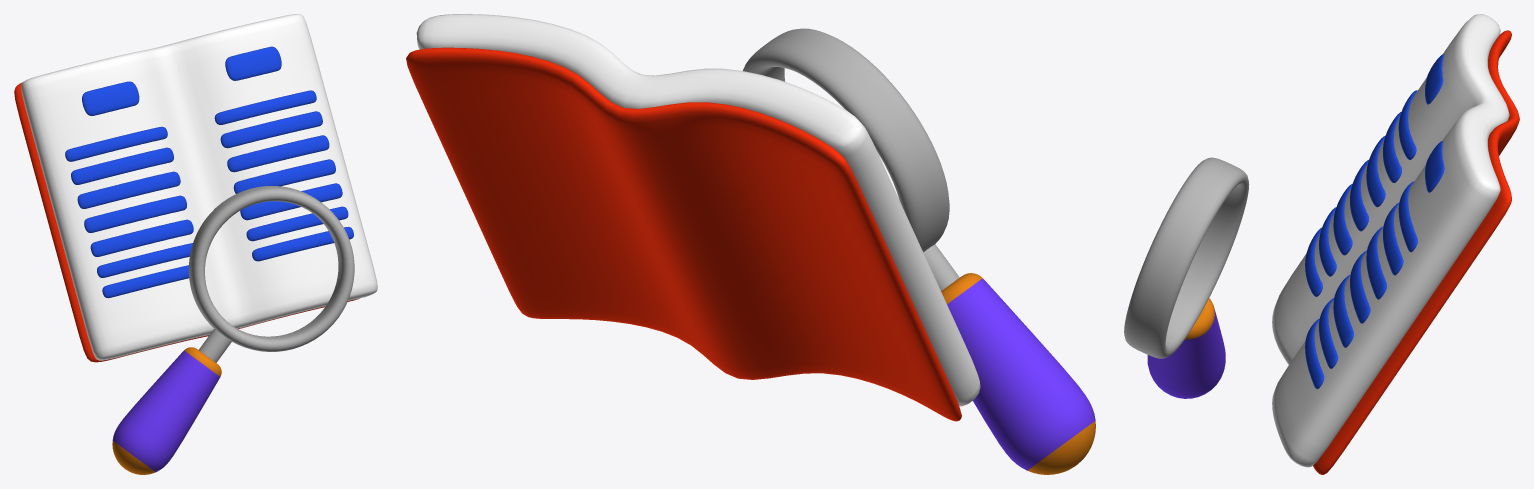
File: Case Study.fbx
3 views of the same model, side by side, from view 1: azimuth 30°, elevation 25°; view 2: azimuth 150°, elevation 25°; view 3: azimuth 270°, elevation 25° (orthographic). The views are drawn at different scales.
Visible parts, largest first — view 1: Plane.001, Plane.010, Circle, Cylinder.001, Plane, Cylinder; view 2: Plane, Plane.001, Cylinder.001, Circle, Cylinder; view 3: Plane.001, Circle, Plane.010, Plane, Cylinder.001.
Boxes of the visible parts, x1,y1,x2,y2 form: Plane.001: (21,14,377,360); Plane.010: (65,46,353,298); Circle: (188,186,354,351); Cylinder.001: (112,347,221,474); Plane: (14,82,359,362); Cylinder: (199,329,231,362); Plane: (406,47,961,421); Plane.001: (416,14,980,406); Cylinder.001: (941,273,1095,474); Circle: (743,28,949,251); Cylinder: (923,244,959,290); Plane.001: (1272,14,1509,467); Circle: (1124,157,1249,358); Plane.010: (1305,54,1444,389); Plane: (1313,30,1519,474); Cylinder.001: (1147,298,1225,398).
Size of the model in its own units: 576 by 562 by 513.
